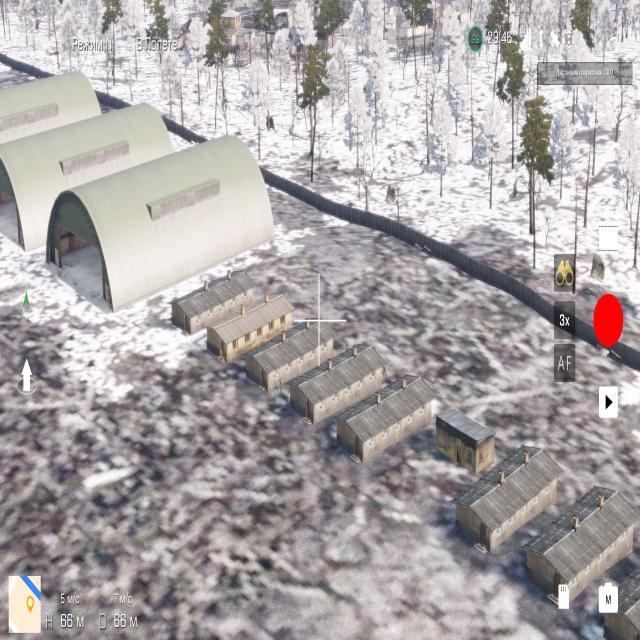fortification: (43, 142, 278, 308), (0, 94, 190, 259), (453, 416, 561, 564), (532, 477, 640, 603), (336, 347, 435, 480), (294, 308, 384, 442), (214, 260, 296, 385), (253, 296, 337, 405), (178, 246, 258, 349), (434, 392, 499, 478)
infantry: (278, 375, 286, 396), (382, 360, 388, 384), (344, 336, 350, 352)
